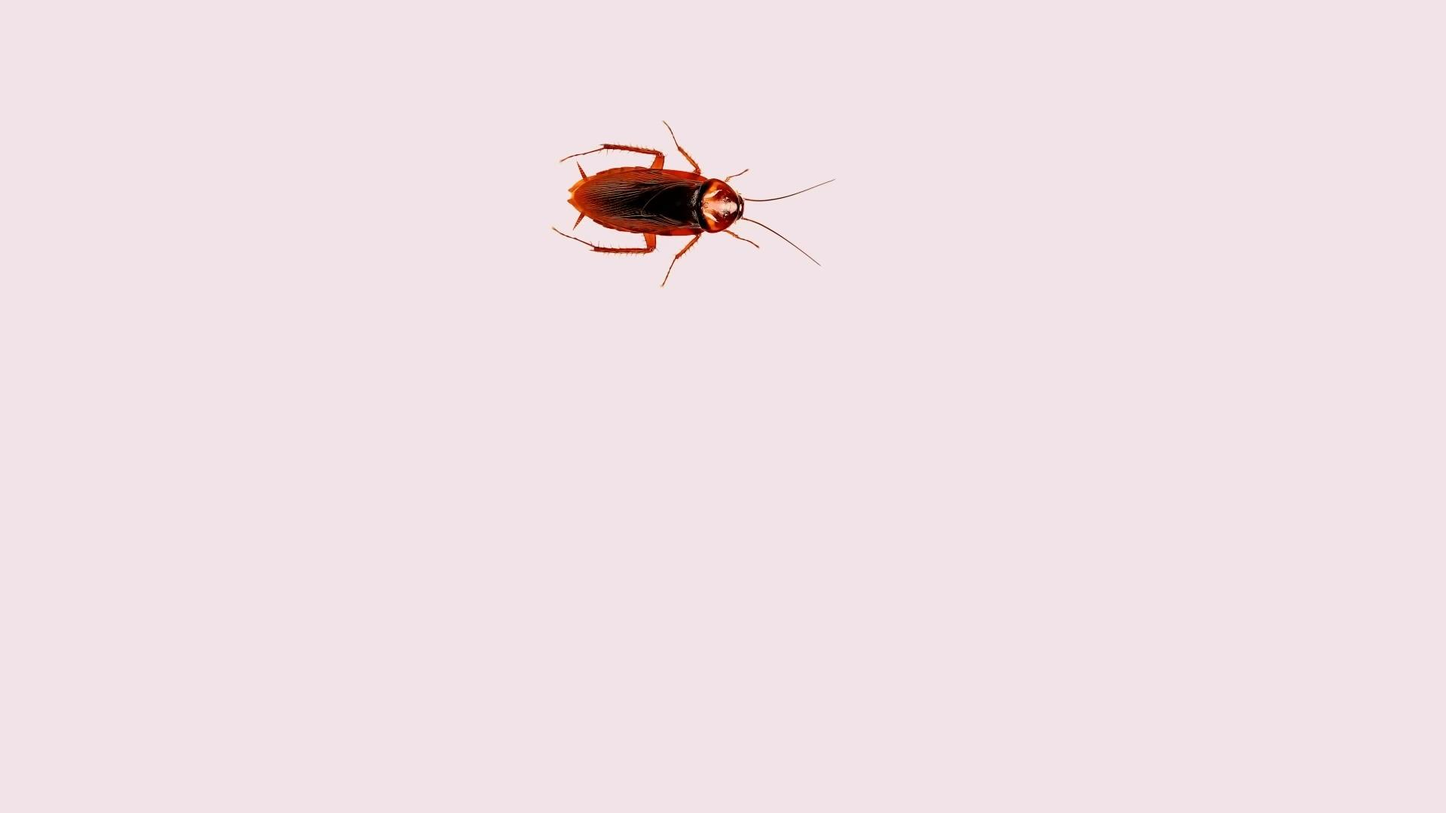cockroach: (528, 101, 827, 295)
